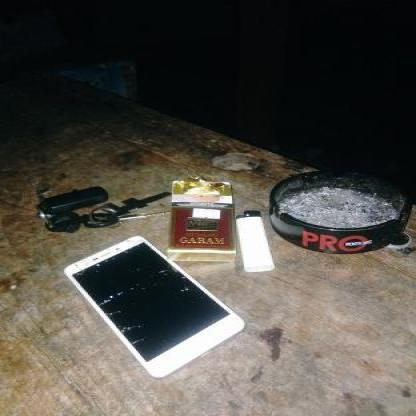objects: (169, 183, 236, 262)
